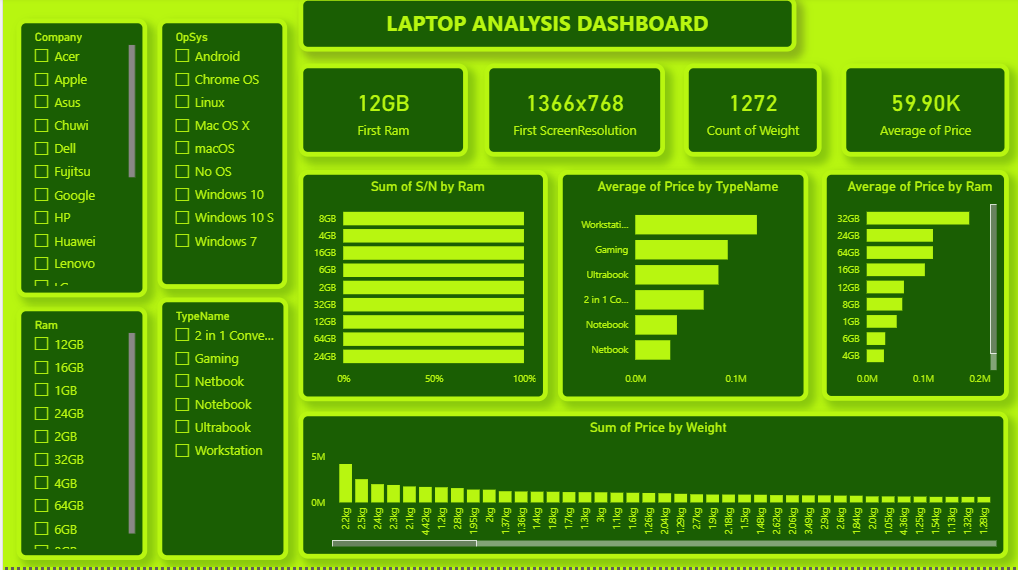

This screenshot's page, from the dashboard's own definition file:
{"tool":"powerbi","page":{"name":"SPECIFICATION AND VALUE ANALYSIS","canvas":[1280,720],"ordinal":1},"visuals":[{"type":"textbox","box":[372.5,0,627.4,69.7],"z":0},{"type":"card","fields":{"Values":["Min(laptopData.Ram)"]},"box":[372.5,85.6,213.1,117.5],"z":1000},{"type":"card","fields":{"Values":["Min(laptopData.ScreenResolution)"]},"box":[607.5,85.6,227.1,117.5],"z":2000},{"type":"card","fields":{"Values":["CountNonNull(laptopData.Weight)"]},"box":[858.4,85.6,173.3,117.5],"z":3000},{"type":"card","fields":{"Values":["Avg(laptopData.Price)"]},"box":[1055.6,85.6,211.1,117.5],"z":4000},{"type":"slicer","fields":{"Values":["laptopData.Ram"]},"box":[17,391.2,164.4,319.4],"z":5000},{"type":"slicer","fields":{"Values":["laptopData.Company"]},"box":[17,28.3,164.4,351.5],"z":6000},{"type":"slicer","fields":{"Values":["laptopData.OpSys"]},"box":[195.2,27.9,163.3,340.6],"z":7000},{"type":"slicer","fields":{"Values":["laptopData.TypeName"]},"box":[194.6,379.8,164.4,330.7],"z":8000},{"type":"hundredPercentStackedBarChart","fields":{"Y":["Sum(laptopData.S/N)"],"Category":["laptopData.Ram"]},"box":[372.3,219.2,313.7,291],"z":9000},{"type":"barChart","fields":{"Y":["Avg(laptopData.Price)"],"Category":["laptopData.TypeName"]},"box":[699.2,219.2,315.6,291],"z":10000},{"type":"clusteredBarChart","fields":{"Y":["Avg(laptopData.Price)"],"Category":["laptopData.Ram"]},"box":[1031.7,219.1,235,290.8],"z":11000},{"type":"lineStackedColumnComboChart","fields":{"Y":["Sum(laptopData.Price)"],"Category":["laptopData.Weight"]},"box":[372.5,523.8,894.3,185.2],"z":12000}]}

Visuals, with their boxes in screenshot pixels (x1, y1, x2, y2), scaled from the page's 1280x720 canvas onto the 1018x570 screenshot:
textbox: (296,0,795,55)
card - Min(laptopData.Ram): (296,68,466,161)
card - Min(laptopData.ScreenResolution): (483,68,664,161)
card - CountNonNull(laptopData.Weight): (683,68,821,161)
card - Avg(laptopData.Price): (840,68,1007,161)
slicer - laptopData.Ram: (14,310,144,563)
slicer - laptopData.Company: (14,22,144,301)
slicer - laptopData.OpSys: (155,22,285,292)
slicer - laptopData.TypeName: (155,301,286,562)
hundredPercentStackedBarChart - Sum(laptopData.S/N) x laptopData.Ram: (296,174,546,404)
barChart - Avg(laptopData.Price) x laptopData.TypeName: (556,174,807,404)
clusteredBarChart - Avg(laptopData.Price) x laptopData.Ram: (821,173,1007,404)
lineStackedColumnComboChart - Sum(laptopData.Price) x laptopData.Weight: (296,415,1008,561)
